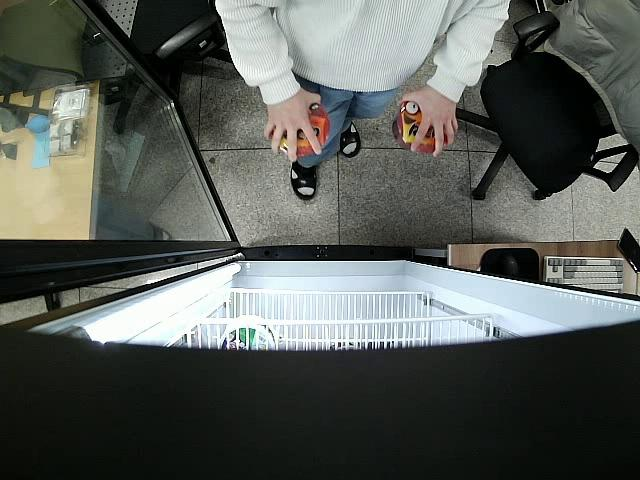00_hand: (396, 87, 458, 157), (264, 91, 323, 161)
05_nuguri_L: (267, 105, 331, 158), (392, 103, 449, 153)
